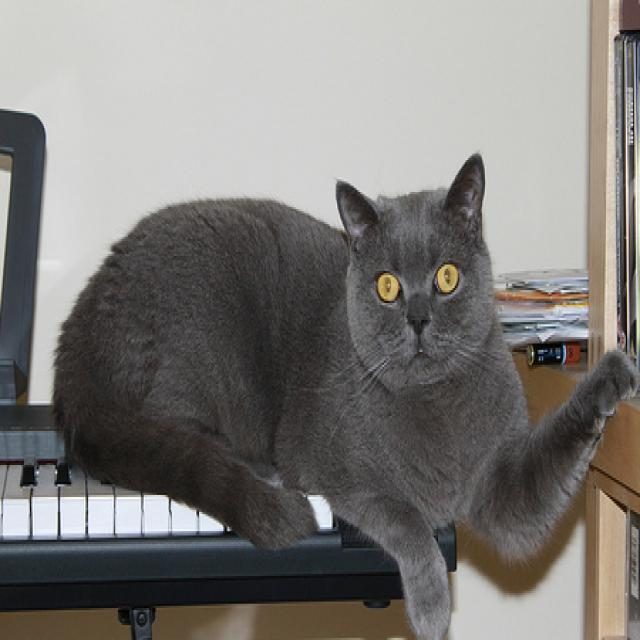British Shorthair: (50, 145, 640, 640)
